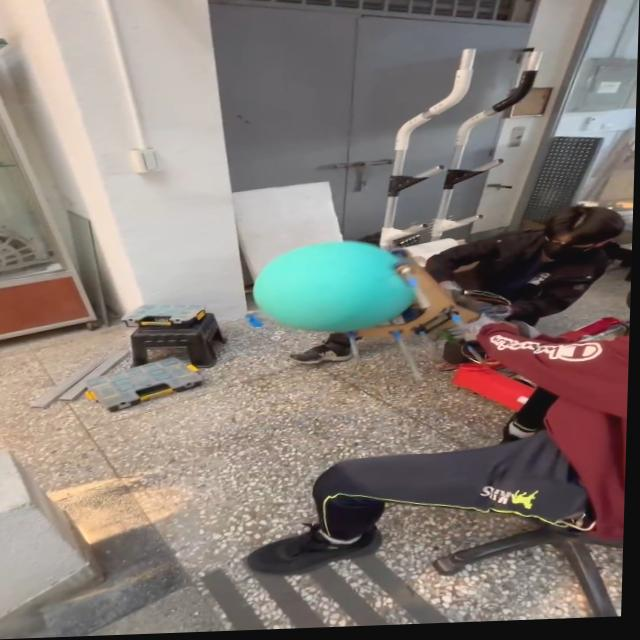ALGAE: (248, 236, 418, 336)
